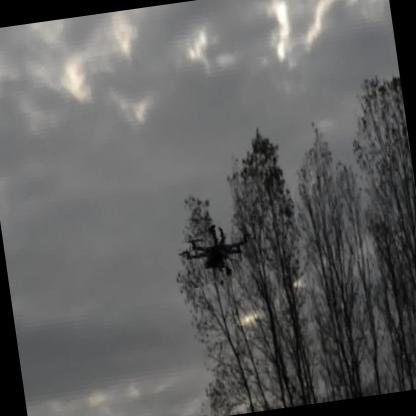drone: (173, 213, 259, 288)
